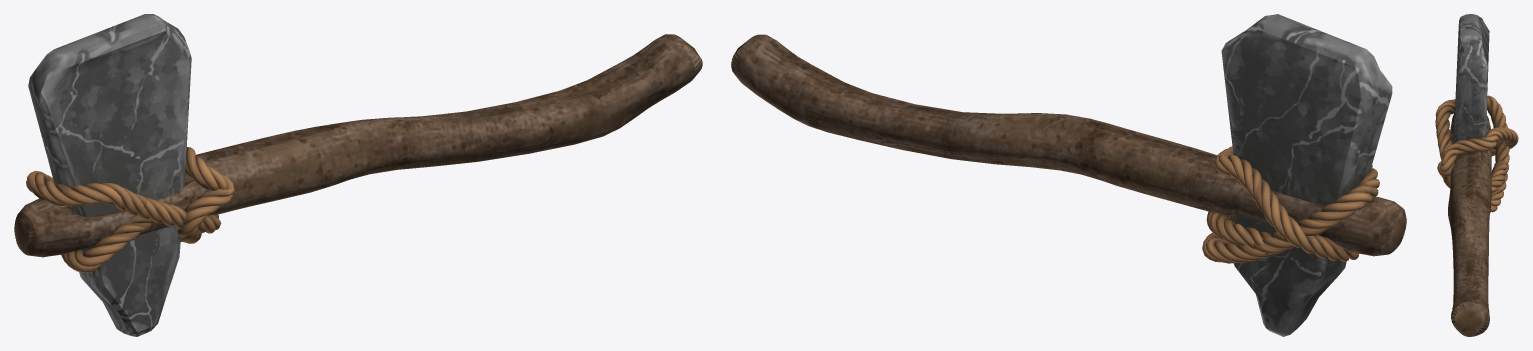
File: StoneAxe.fbx
3 views of the same model, side by side, from view 1: azimuth 30°, elevation 25°; view 2: azimuth 150°, elevation 25°; view 3: azimuth 270°, elevation 25° (orthographic). The views are drawn at different scales.
Parts seen in each view (by area): view 1: Cylinder, Cube_Axe_0, Circle; view 2: Cylinder, Cube_Axe_0, Circle; view 3: Cylinder, Cube_Axe_0, Circle.
Part boxes in pixels (x1,y1,x2,y2): Cylinder: (14,34,702,257); Cube_Axe_0: (28,14,191,336); Circle: (26,146,234,272); Cylinder: (731,34,1406,256); Cube_Axe_0: (1221,14,1392,336); Circle: (1202,146,1379,263); Cylinder: (1448,112,1491,336); Cube_Axe_0: (1454,14,1489,143); Circle: (1435,95,1518,212).
Bounding box in the file's own units: 10.07 × 4.5 × 1.62.
